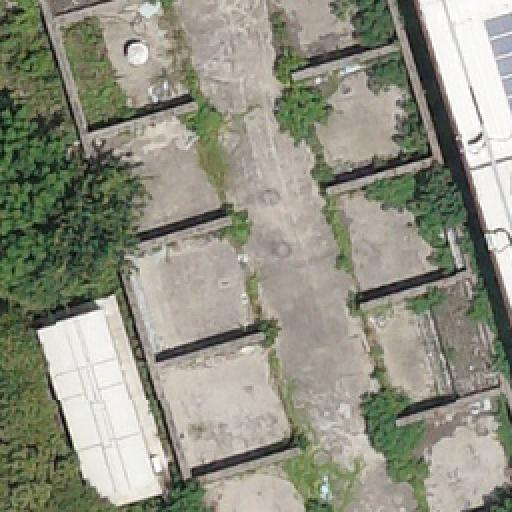solar-panel: (484, 14, 512, 114)
